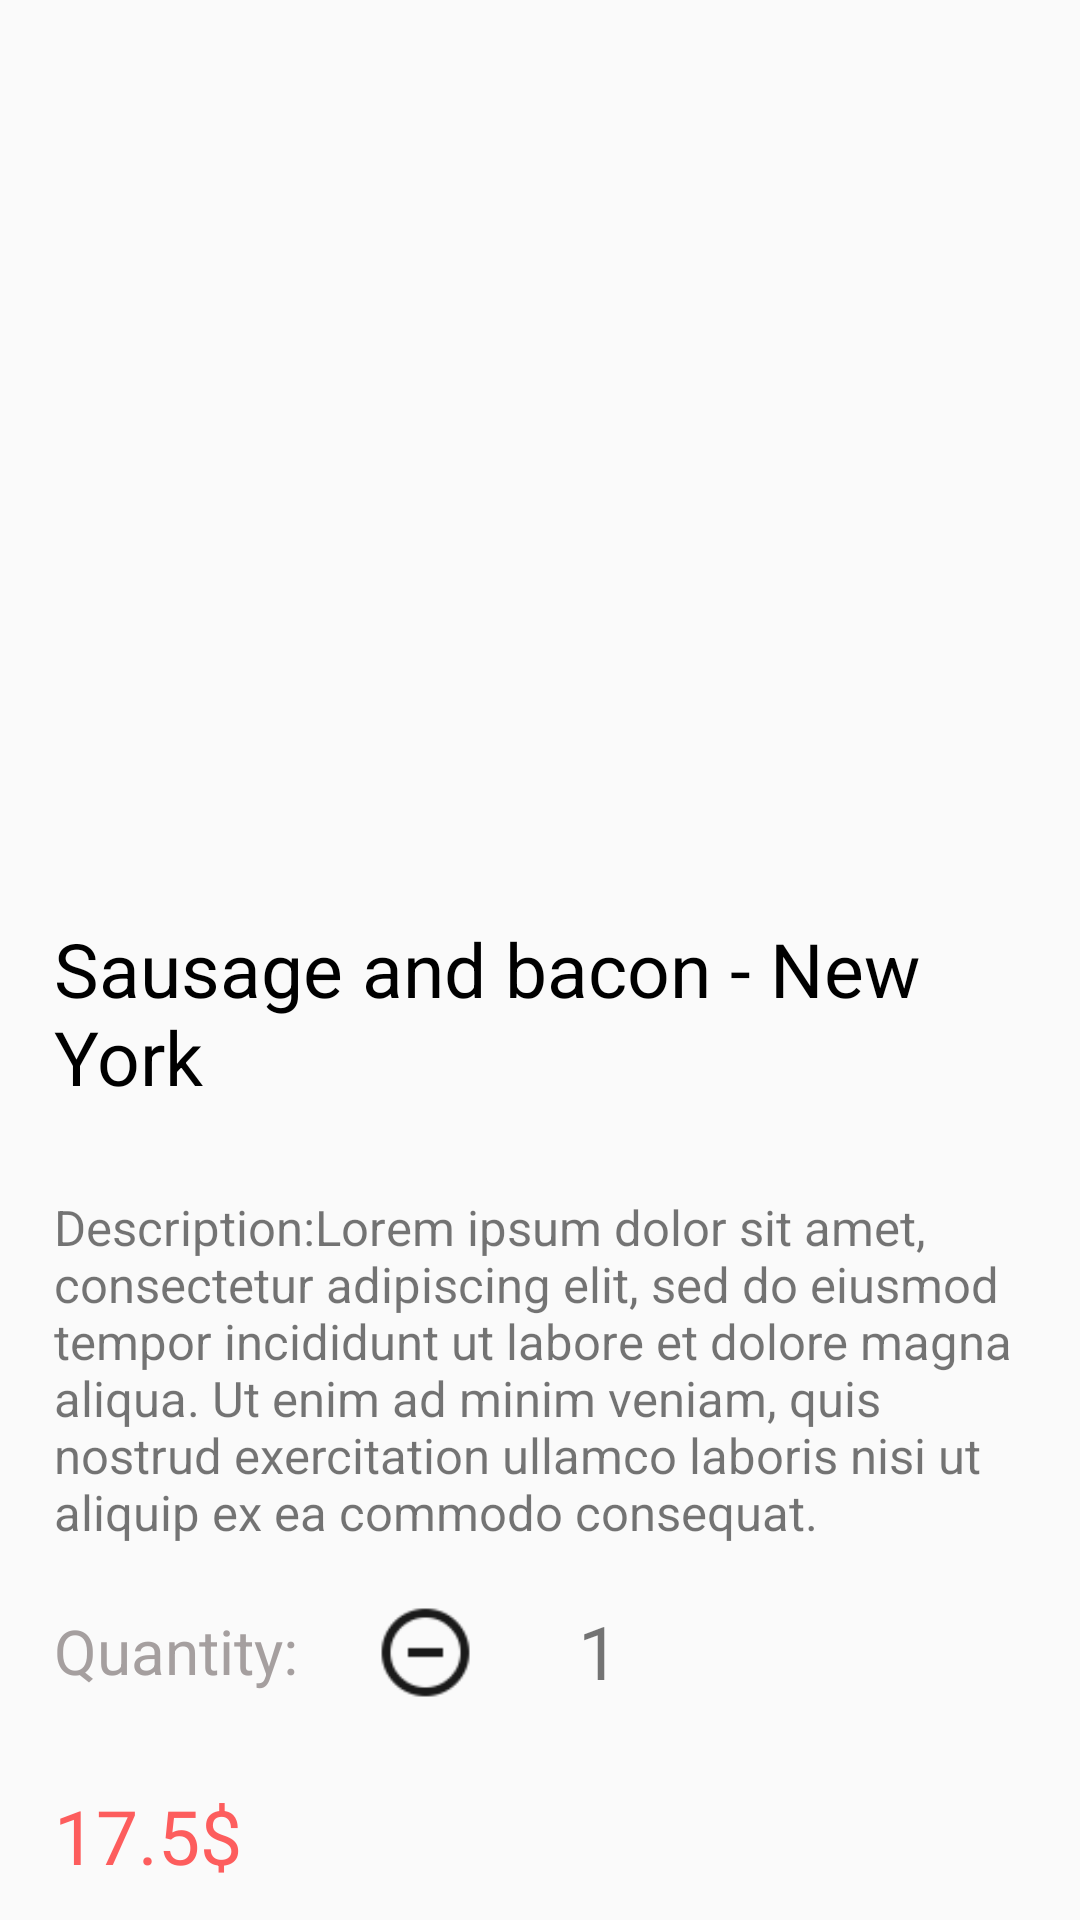

Icons on this 1080*1920 Android screen, each with its box as bbox=[x1, y1, x2, y2]:
minussign: bbox=[381, 1608, 470, 1697]
